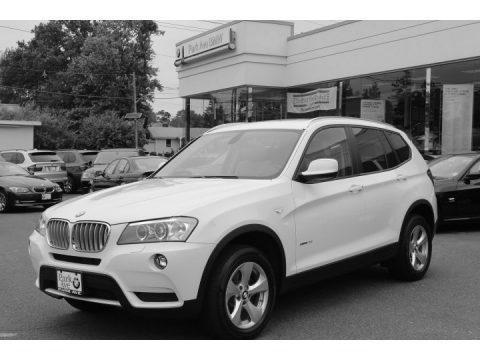car: (28, 116, 440, 339)
